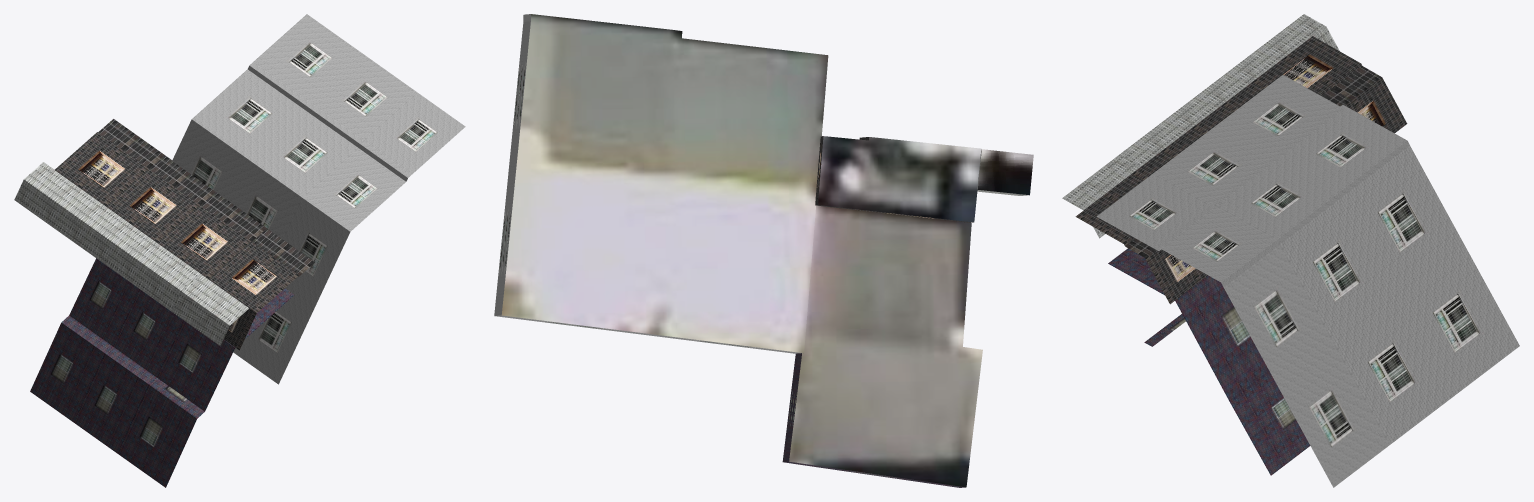
The picture shows the model from 3 angles, left to right: view 1: azimuth 30°, elevation 25°; view 2: azimuth 150°, elevation 25°; view 3: azimuth 270°, elevation 25°; orthographic projection. The views are drawn at different scales.
Size of the model in its own units: 25.99 by 21.44 by 20.61.
Materials: 10 (10 with a texture image).
